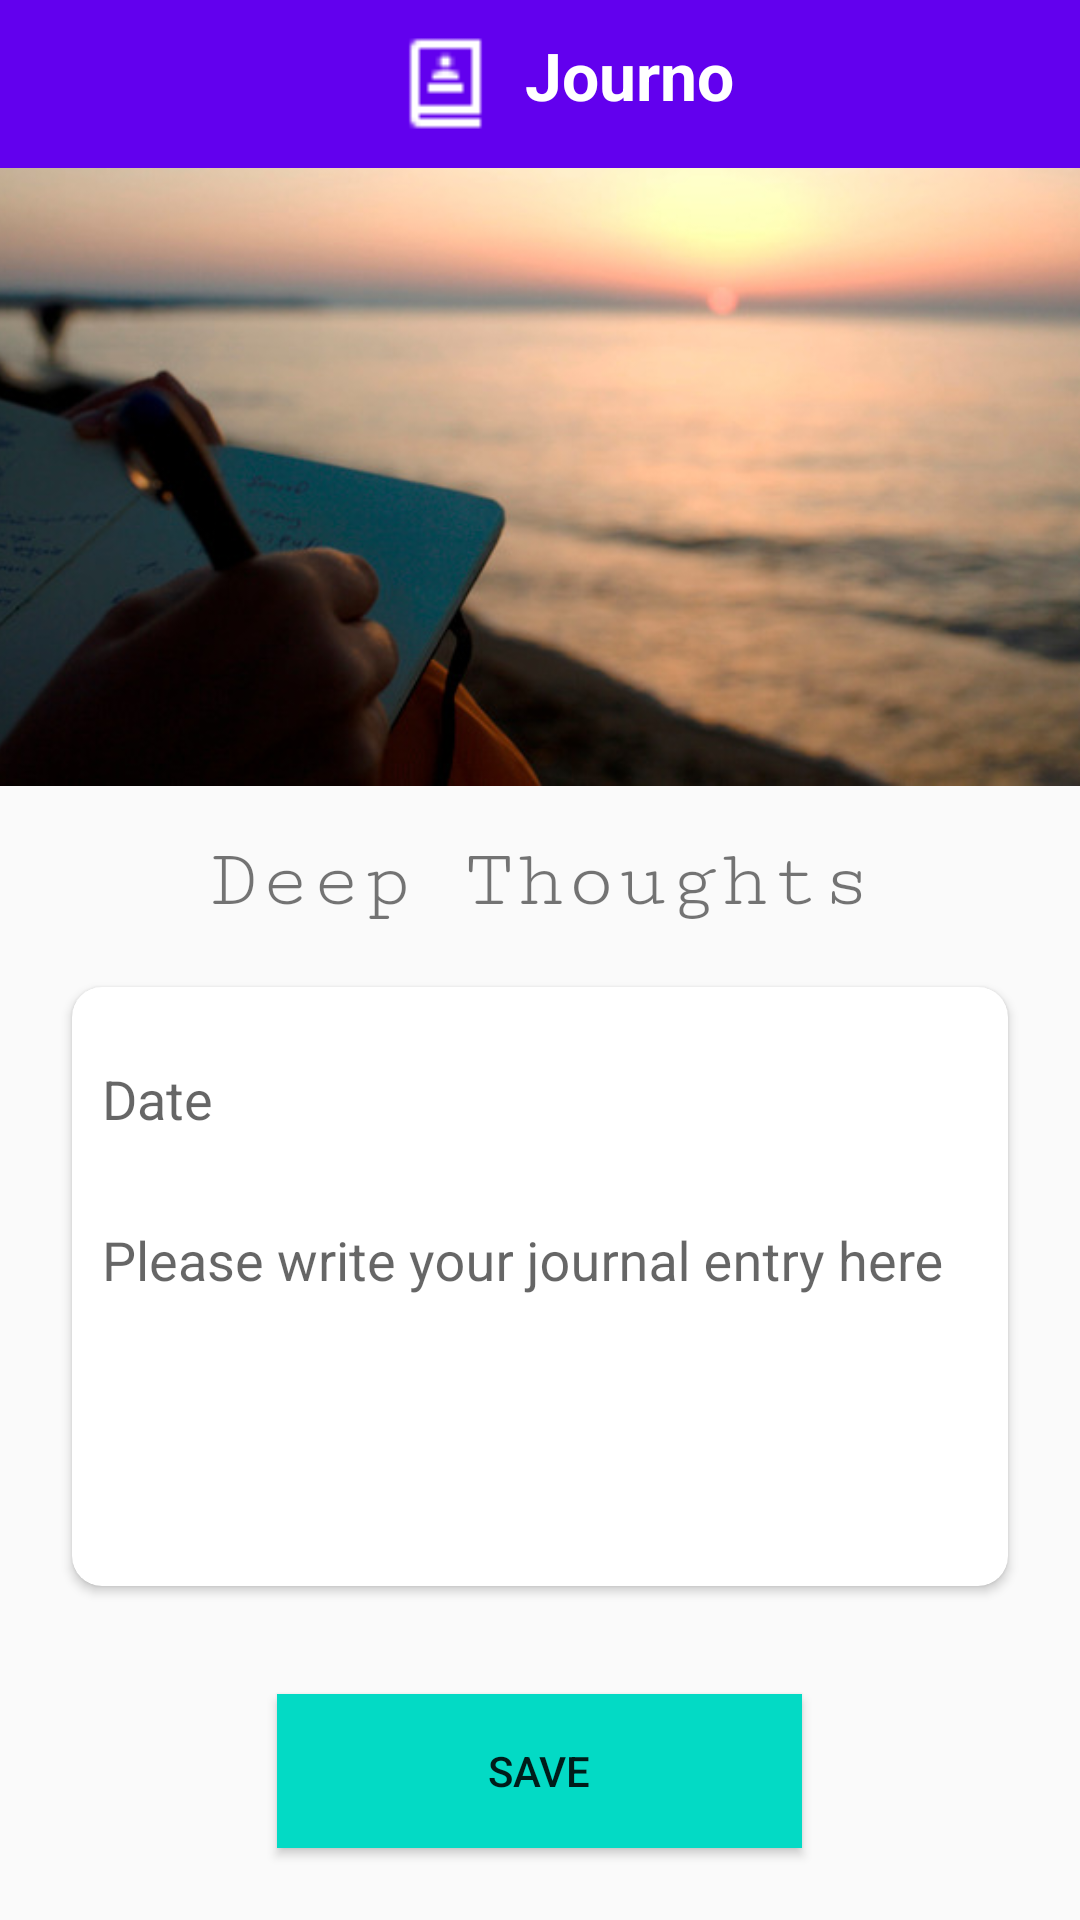

Icons on this 1080px x 1920px Android screen, each with its box as (x1, y1, x2, y2):
journal: (409, 38, 482, 129)
